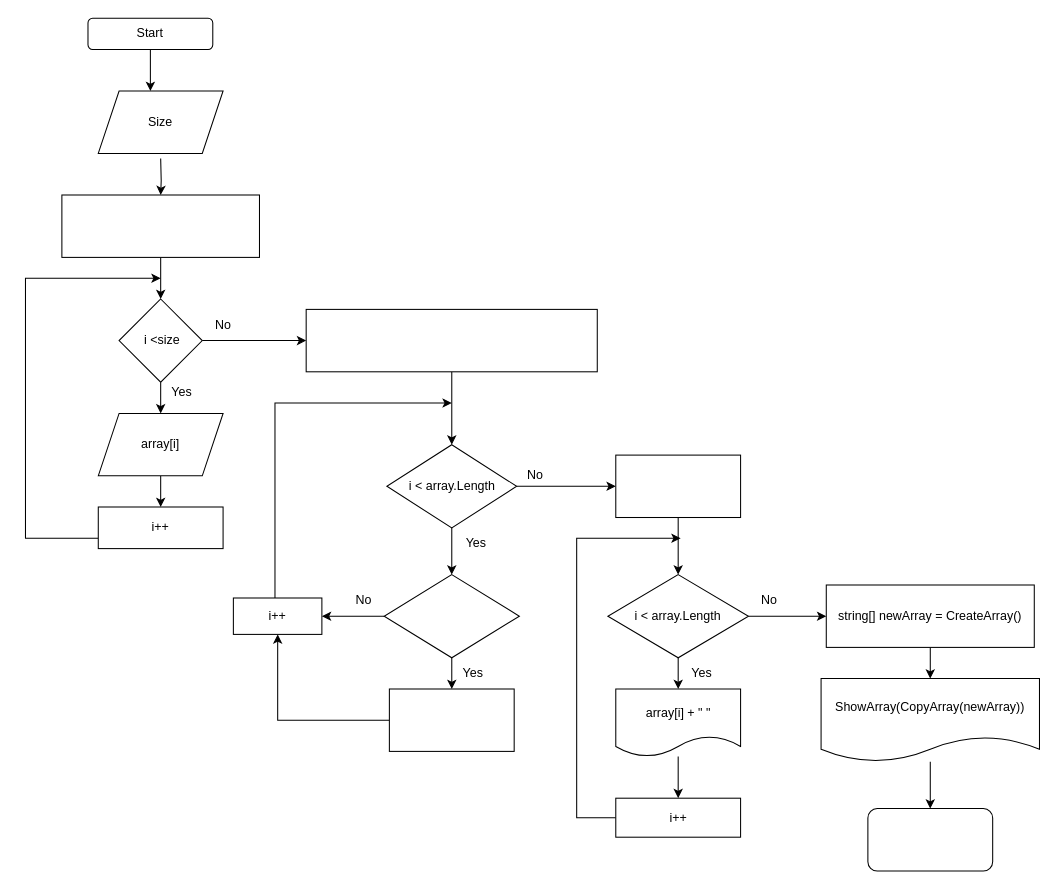
The diagram is 1058 pixels wide and 889 high, and some of its shapes have lost their labels. Each missing label, with the centre of its shape:
array[i].Length <= 3: [451,616]
End: [930,839]
i = 0: [678,486]
result [i] = array [i]: [451,719]
string[] array = new string[size] i = 0: [160,225]
string[] result = new string[array.LongLength] i = 0: [451,340]
